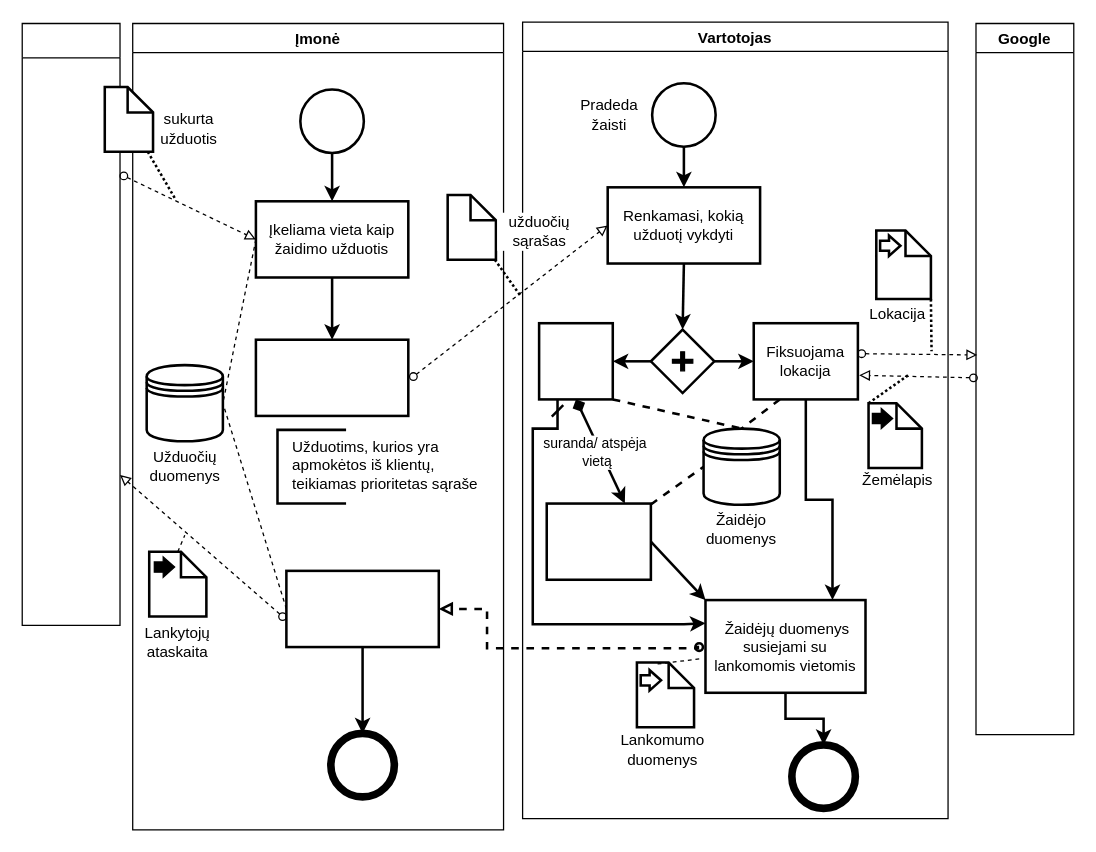
Image size: 1096x852. Some labels were removed from this diagram. The shapes that lost their labels are listed below. From the top down, each one's centre as x and y in pixels, then its label:
At [70,323]: "Klientas/ Partneris".
At [331,377]: "Kuriamas sąrašas galimų užduočių".
At [575,360]: "Vykdo užduotį".
At [598,541]: "Apsilanko partnerio/ kliento vietoje".
At [361,608]: "Kuriama ataskaita apie vietos lankomumą".
